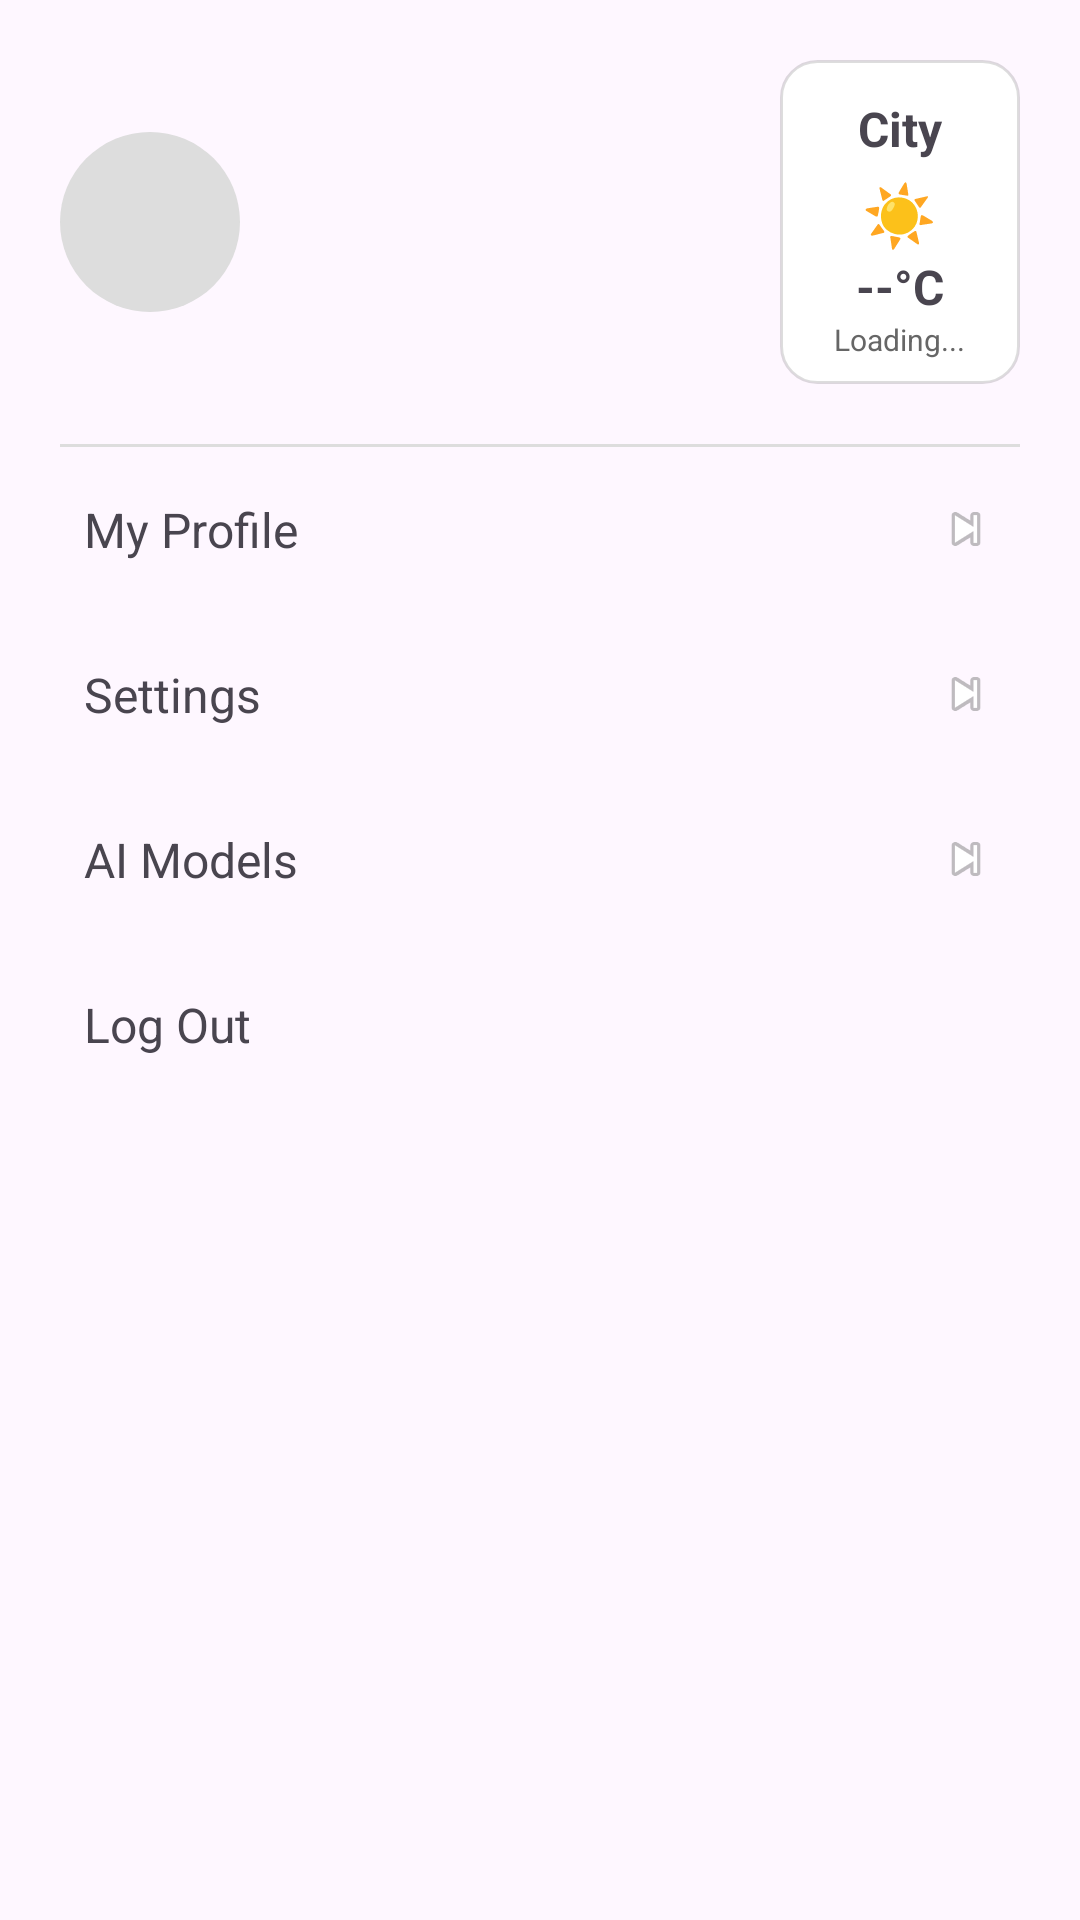

Locate icon controls on the screen. Image size 1080 × 1920, boxes as (x1, y1, x2, y2).
next: (952, 512, 980, 546), (952, 677, 980, 711), (952, 842, 980, 876)
